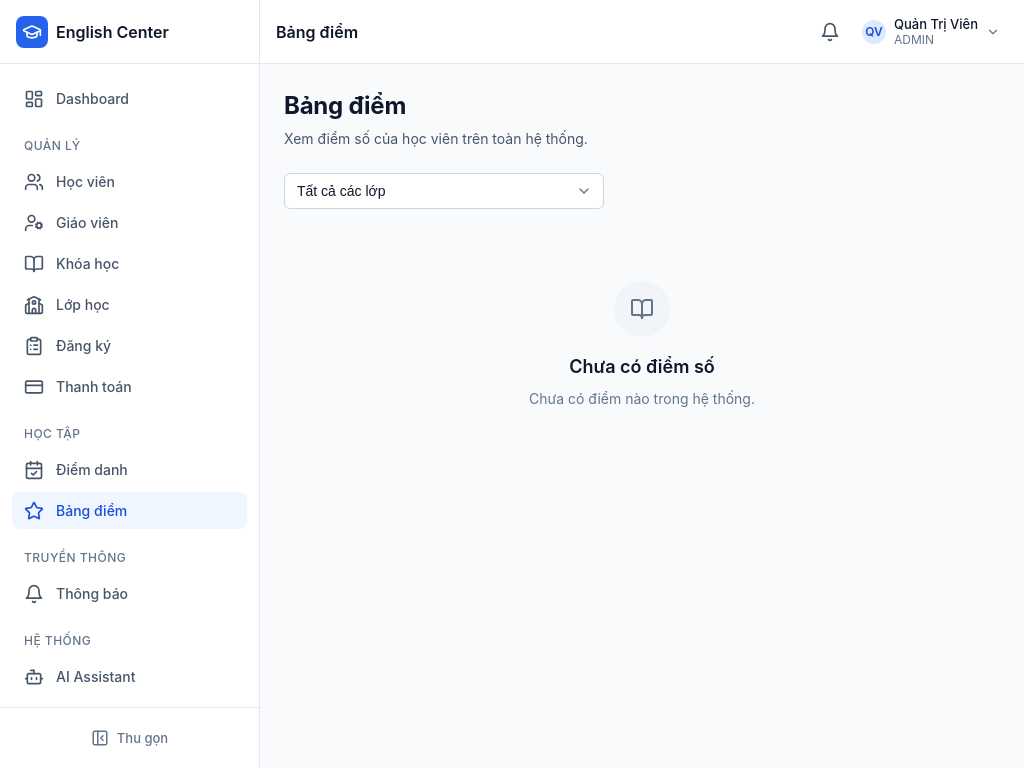
Scenario: AdminScoresPage › shows class-scoped empty state when filtered class has no scores
This screenshot has width=1024, height=768.
Check: the heading "Chưa có điểm số" is shown, box [569, 353, 715, 380]
Select "Beginner Class B — English Foundation" in the dropdown named "Lọc theo lớp học" at (444,191), box [284, 173, 604, 209]
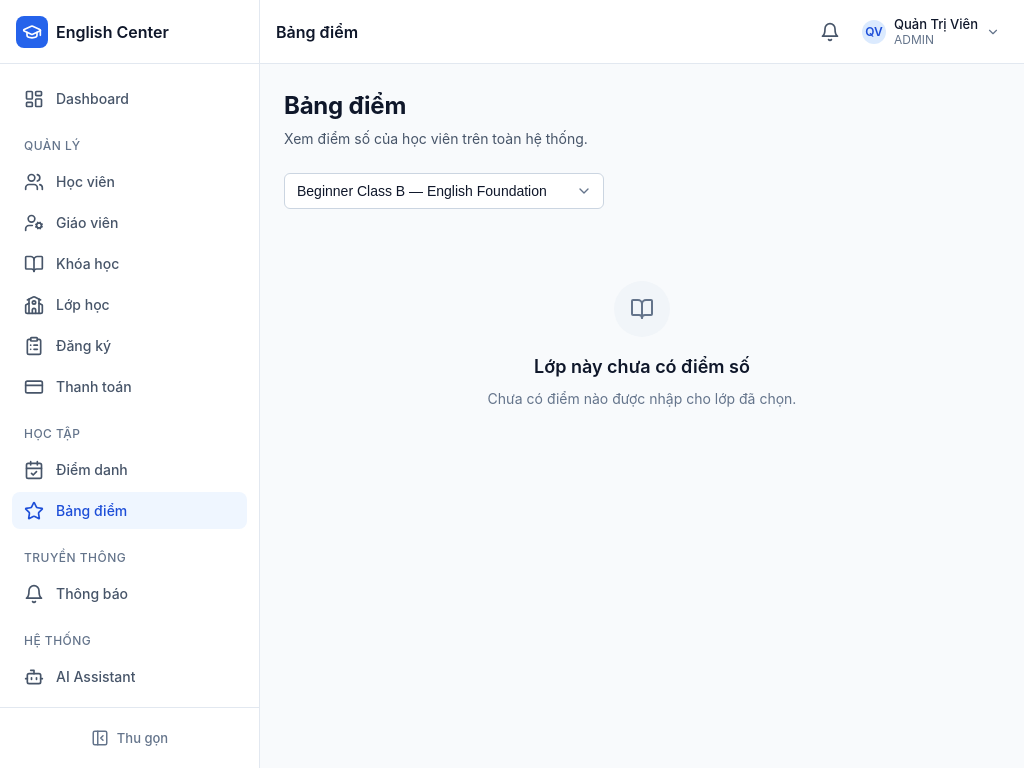
Check: the heading "Lớp này chưa có điểm số" is shown, box [534, 353, 750, 380]
